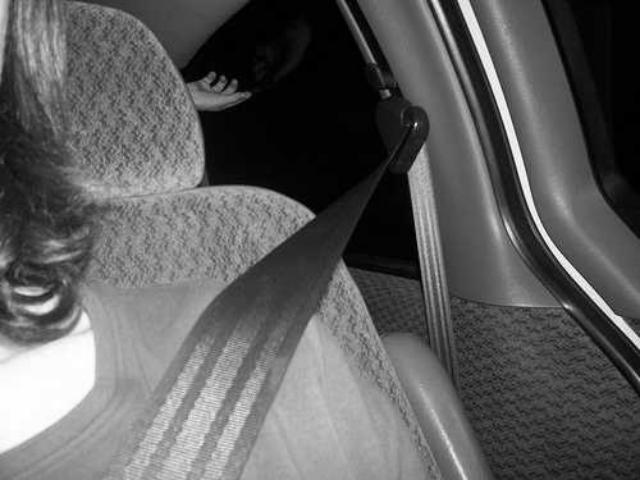Seatbelt: (88, 88, 430, 480)
